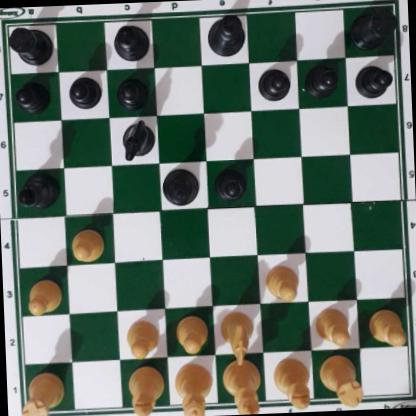black-bishop: (14, 172, 62, 210), (110, 24, 153, 63)
black-king: (205, 12, 248, 59)
black-knight: (119, 118, 154, 159)
black-pawn: (354, 61, 392, 99), (256, 66, 291, 101), (214, 166, 248, 202), (115, 72, 148, 109), (15, 78, 50, 112), (305, 62, 339, 97), (67, 74, 100, 110)
black-queen: (160, 166, 199, 206)
black-rook: (350, 2, 396, 49), (4, 22, 53, 66)
white-bishop: (272, 357, 311, 408), (127, 362, 162, 416)
white-king: (221, 356, 261, 414)
white-knight: (218, 309, 257, 367)
white-pawn: (313, 304, 353, 346), (367, 306, 406, 345), (68, 224, 106, 263), (24, 278, 62, 316), (263, 262, 299, 302), (124, 317, 160, 357), (173, 313, 208, 352)
white-queen: (172, 361, 214, 416)
white-rook: (21, 366, 64, 416), (318, 357, 361, 405)
